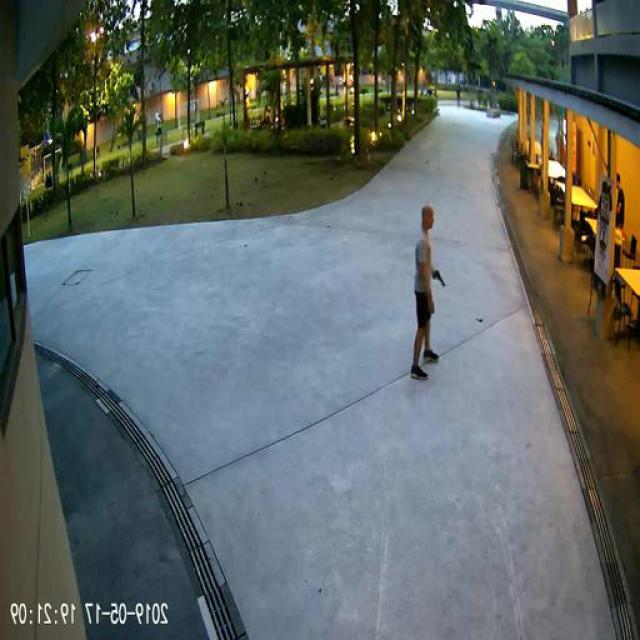Gun: (434, 268, 448, 284)
